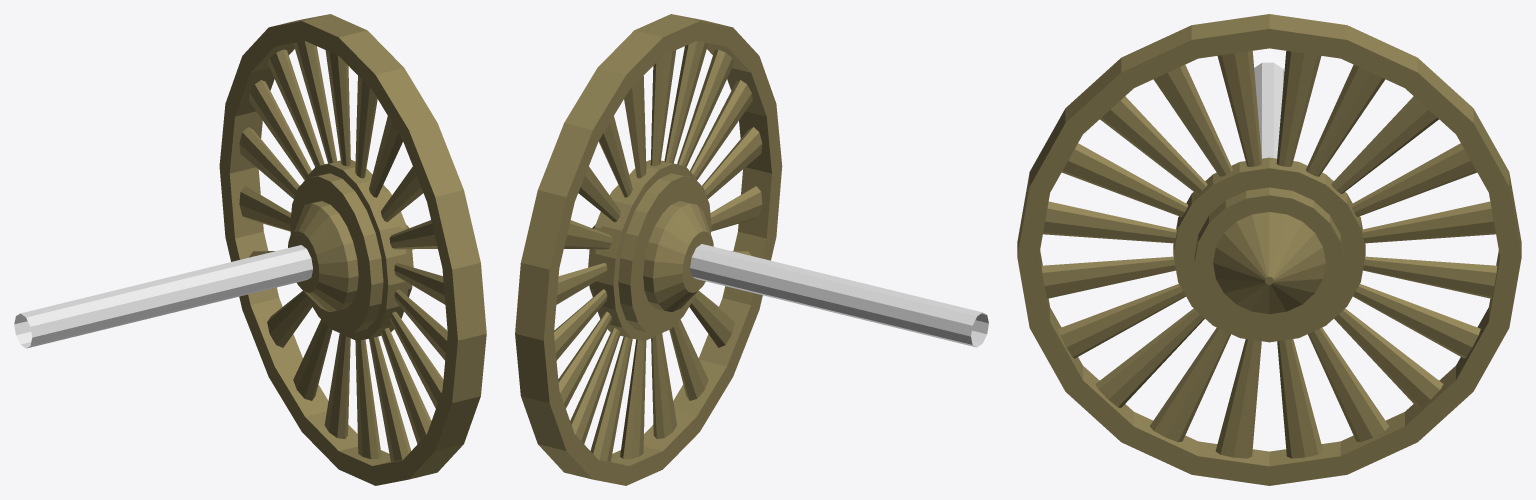
The model's file is Roue_G.fbx.
The picture shows the model from 3 angles, left to right: view 1: azimuth 30°, elevation 25°; view 2: azimuth 150°, elevation 25°; view 3: azimuth 270°, elevation 25°; orthographic projection. The views are drawn at different scales.
Parts seen in each view (by area): view 1: Roue_G; view 2: Roue_G; view 3: Roue_G.
Part boxes in pixels (box(x1,y1,x2,y2)): Roue_G: box(14, 14, 486, 485); Roue_G: box(515, 14, 988, 485); Roue_G: box(1017, 14, 1521, 485).
Bounding box in the file's own units: 189 × 200 × 200.
